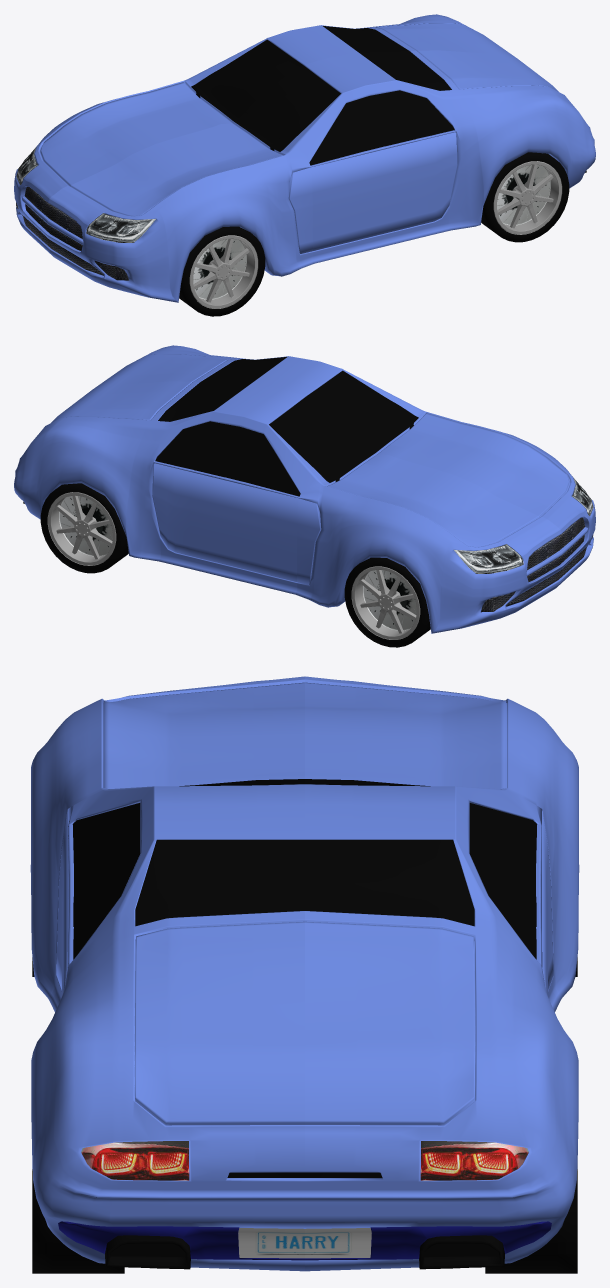
The model's file is Car.fbx.
The picture shows the model from 3 angles, top to bottom: view 1: azimuth 30°, elevation 25°; view 2: azimuth 150°, elevation 25°; view 3: azimuth 270°, elevation 25°; orthographic projection. The views are drawn at different scales.
Parts seen in each view (by area): view 1: MainBody, MainBody.001, Wheel BackLeft, Wheel FrontLeft, Wheel FrontLeftSteel, Wheel BackLeftSteel, FrontGrill, Head Lights; view 2: MainBody, MainBody.001, Wheel BackRight, Wheel FrontRight, Wheel FrontRightSteel.001, Wheel BackRightSteel, FrontGrill, Head Lights; view 3: MainBody, MainBody.001, Tail Lights, BackPlate, Exhaust, BackBumper, Wheel BackLeft, Wheel BackRight.
Boxes of the visible parts, bbox=[...] form: MainBody: bbox=[14, 14, 595, 302]; MainBody.001: bbox=[191, 26, 454, 165]; Wheel BackLeft: bbox=[481, 152, 569, 242]; Wheel FrontLeft: bbox=[179, 226, 265, 316]; Wheel FrontLeftSteel: bbox=[189, 235, 258, 308]; Wheel BackLeftSteel: bbox=[493, 161, 562, 234]; FrontGrill: bbox=[16, 186, 128, 280]; Head Lights: bbox=[16, 147, 155, 242]; MainBody: bbox=[14, 345, 595, 633]; MainBody.001: bbox=[155, 357, 418, 496]; Wheel BackRight: bbox=[40, 483, 128, 573]; Wheel FrontRight: bbox=[344, 557, 430, 647]; Wheel FrontRightSteel.001: bbox=[351, 566, 420, 639]; Wheel BackRightSteel: bbox=[47, 492, 116, 565]; FrontGrill: bbox=[481, 517, 593, 612]; Head Lights: bbox=[454, 478, 593, 573]; MainBody: bbox=[30, 676, 579, 1271]; MainBody.001: bbox=[72, 779, 537, 1177]; Tail Lights: bbox=[81, 1141, 528, 1180]; BackPlate: bbox=[58, 1221, 551, 1260]; Exhaust: bbox=[105, 1235, 504, 1269]; BackBumper: bbox=[238, 1228, 371, 1258]; Wheel BackLeft: bbox=[32, 1169, 124, 1273]; Wheel BackRight: bbox=[485, 1169, 577, 1273].
Bounding box in the file's own units: 321 × 103 × 154.
